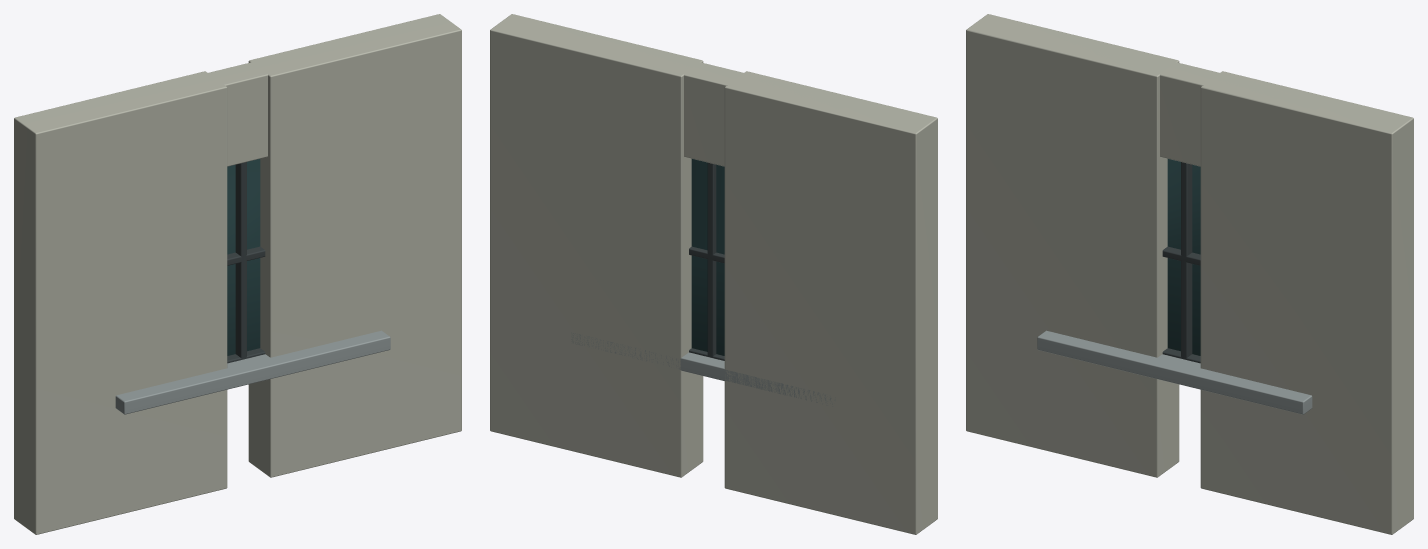
Rendered from H_WindowBay.fbx.
3 views of the same model, side by side, from view 1: azimuth 30°, elevation 25°; view 2: azimuth 150°, elevation 25°; view 3: azimuth 330°, elevation 25° (orthographic).
Visible parts, largest first — view 1: H_WindowBay; view 2: H_WindowBay; view 3: H_WindowBay.
Boxes of the visible parts, bbox=[...] form: H_WindowBay: bbox=[14, 14, 461, 534]; H_WindowBay: bbox=[490, 14, 937, 534]; H_WindowBay: bbox=[966, 14, 1413, 534].
Size of the model in its own units: 4 by 3.6 by 0.5.
